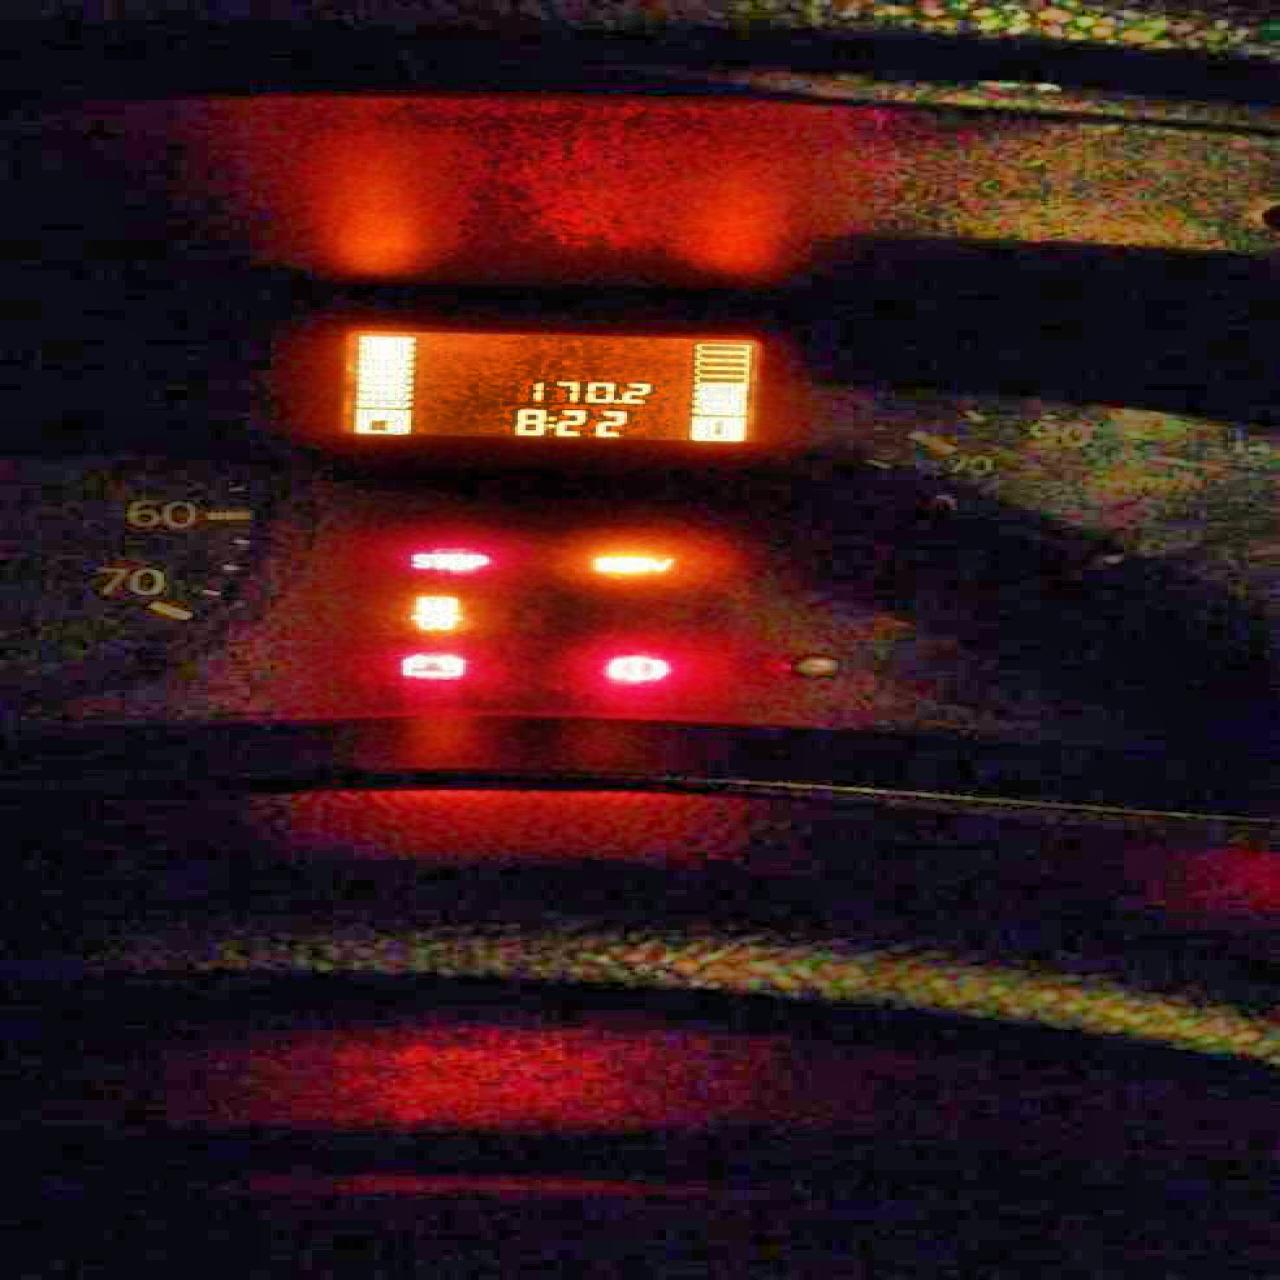-: (612, 396, 620, 406)
0: (583, 380, 614, 402)
1: (527, 379, 542, 403)
2: (593, 409, 627, 436), (554, 409, 583, 436), (621, 381, 651, 403)
7: (551, 379, 578, 402)
8: (510, 406, 544, 435)
X: (544, 414, 551, 429)
odometer: (315, 322, 781, 450)
